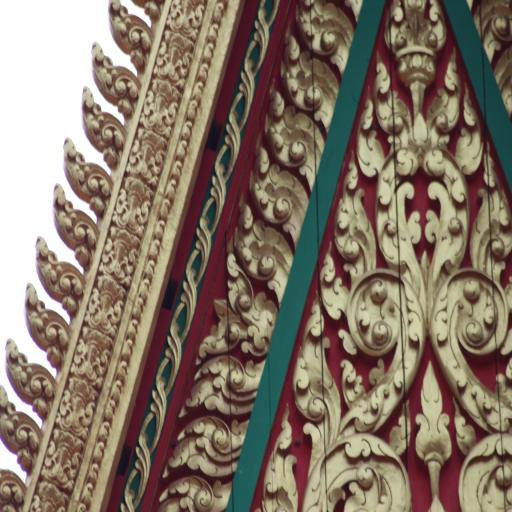la: (264, 270, 422, 512), (420, 274, 512, 511), (330, 78, 421, 270), (423, 79, 511, 274), (220, 256, 276, 356), (265, 92, 322, 182), (239, 202, 292, 296), (390, 0, 450, 82), (282, 38, 339, 122), (293, 0, 359, 71), (186, 363, 260, 421), (254, 150, 305, 232), (172, 424, 246, 472), (54, 373, 98, 434), (72, 324, 118, 378), (126, 131, 171, 184), (116, 181, 155, 234), (142, 82, 182, 133), (40, 438, 82, 486), (88, 277, 126, 330), (155, 34, 198, 78), (165, 482, 224, 512), (105, 234, 138, 278), (167, 0, 202, 35), (35, 482, 66, 512)
lua: (6, 334, 54, 411), (60, 136, 111, 207), (90, 37, 140, 109), (54, 181, 101, 254), (24, 277, 66, 358), (37, 234, 80, 310), (80, 84, 120, 156), (1, 381, 37, 456), (105, 0, 145, 64)
